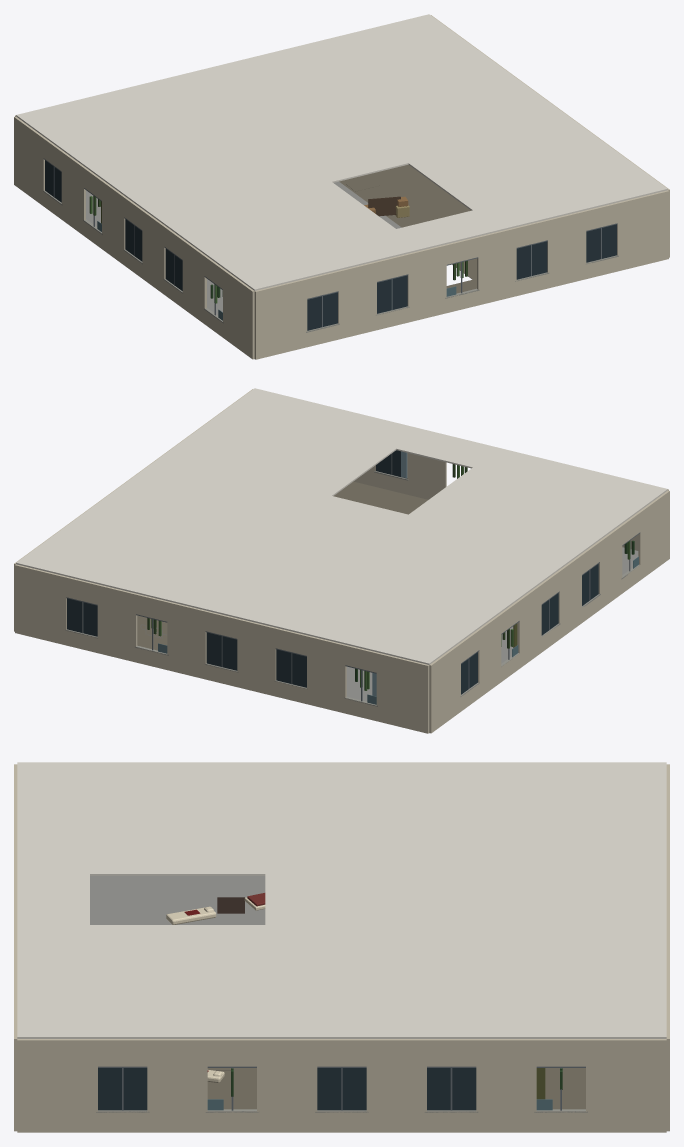
File: tw_interior_camp_24.glb
3 views of the same model, one above another, from view 1: azimuth 30°, elevation 25°; view 2: azimuth 150°, elevation 25°; view 3: azimuth 270°, elevation 25° (orthographic). The views are drawn at different scales.
Parts seen in each view (by area): view 1: tw_interior_camp_24; view 2: tw_interior_camp_24; view 3: tw_interior_camp_24.
Part boxes in pixels (x1,y1,x2,y2): tw_interior_camp_24: (14, 14, 669, 359); tw_interior_camp_24: (14, 388, 669, 733); tw_interior_camp_24: (14, 762, 669, 1132).
Size of what is drawn, in the model's own units: 24.31 by 3.82 by 23.94.
3 materials, 3 textured.
